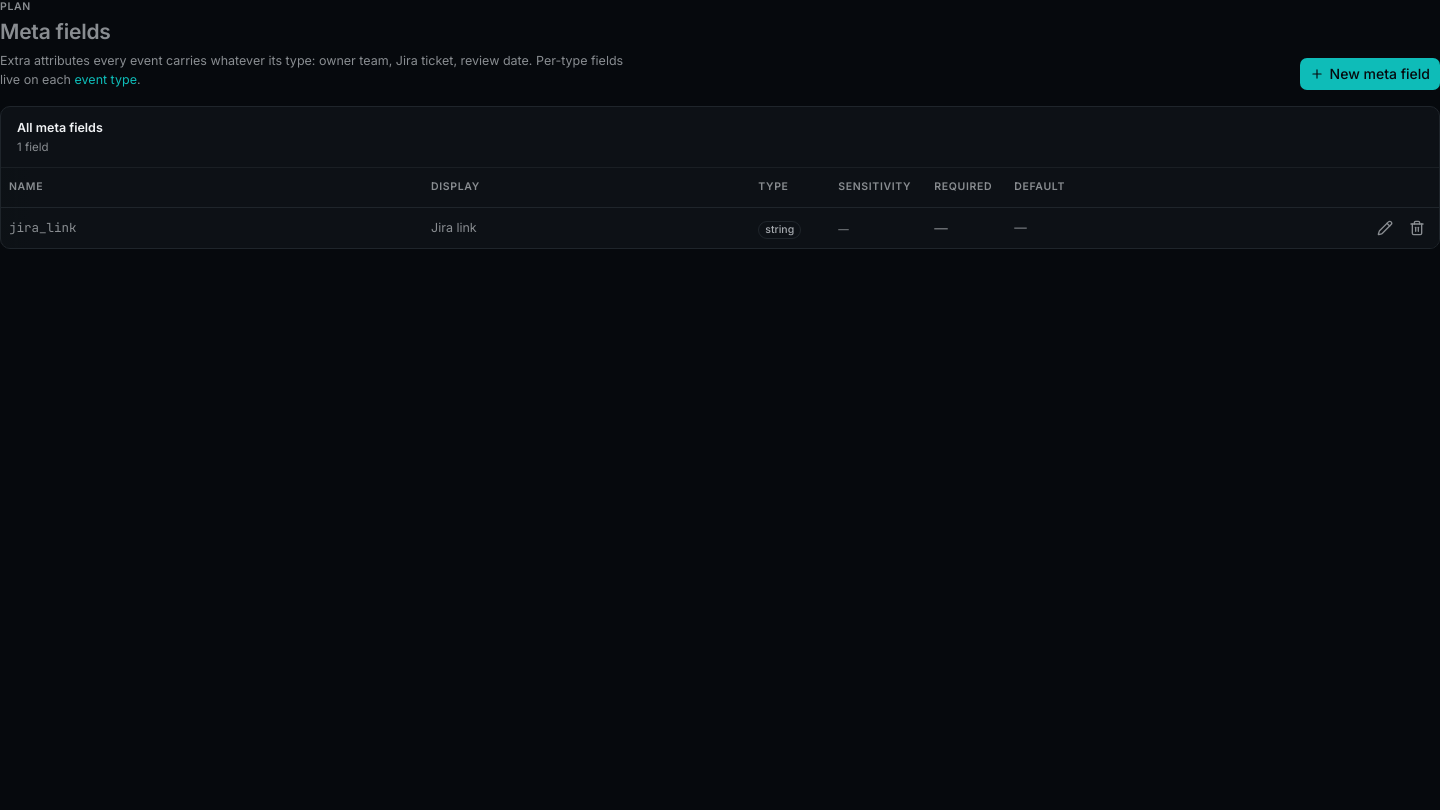
MetaFieldsTab — load and delete states (PLAN-41 / PLAN-54) › says a failed delete failed
Click the button named "Delete Jira link".
click(1417, 228)  # box [1403,214,1431,242]
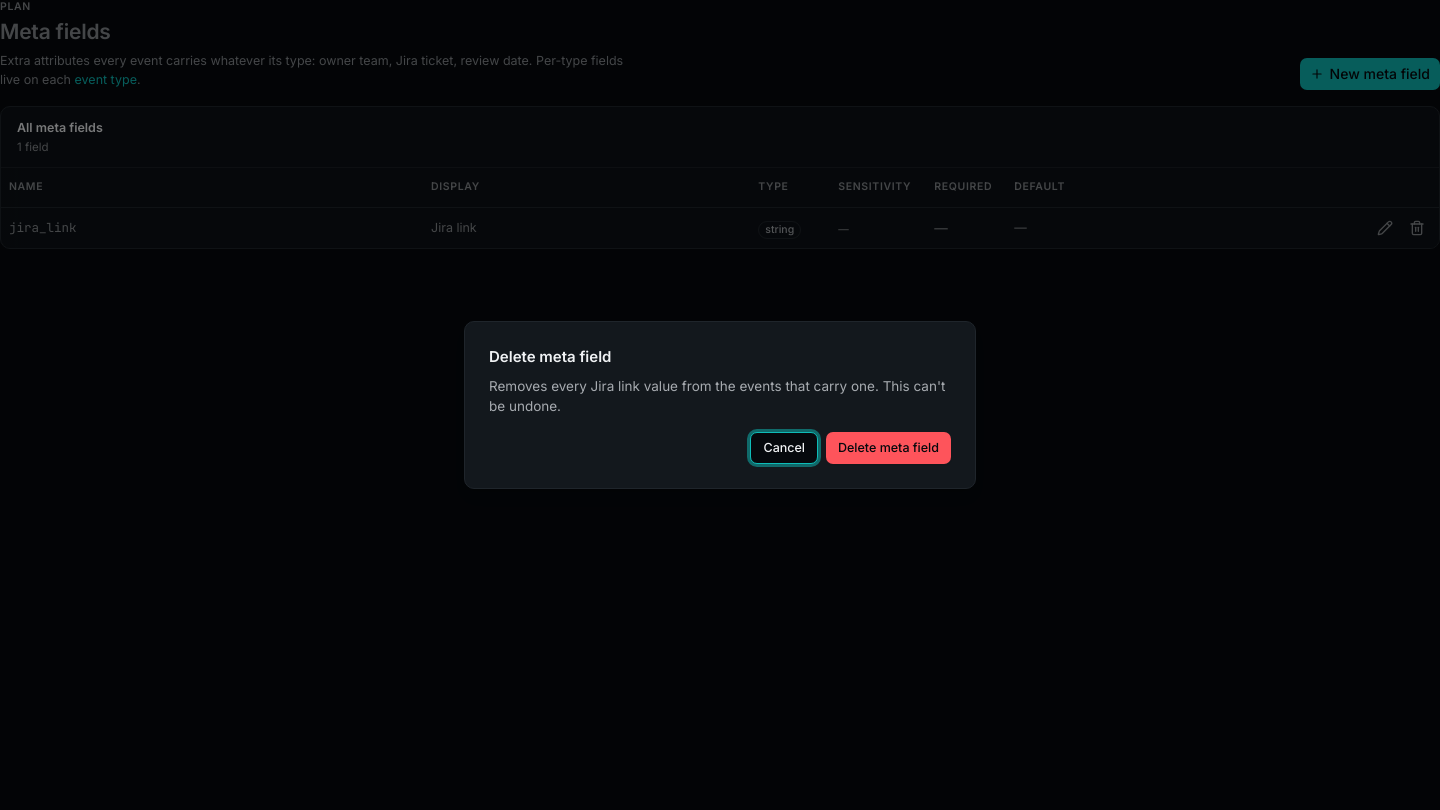
expect the text "Removes every Jira link value from the events that carry one" is shown: met, box [489,378,945,414]
Click the button "Delete meta field".
click(888, 448)  # box [826,432,951,464]
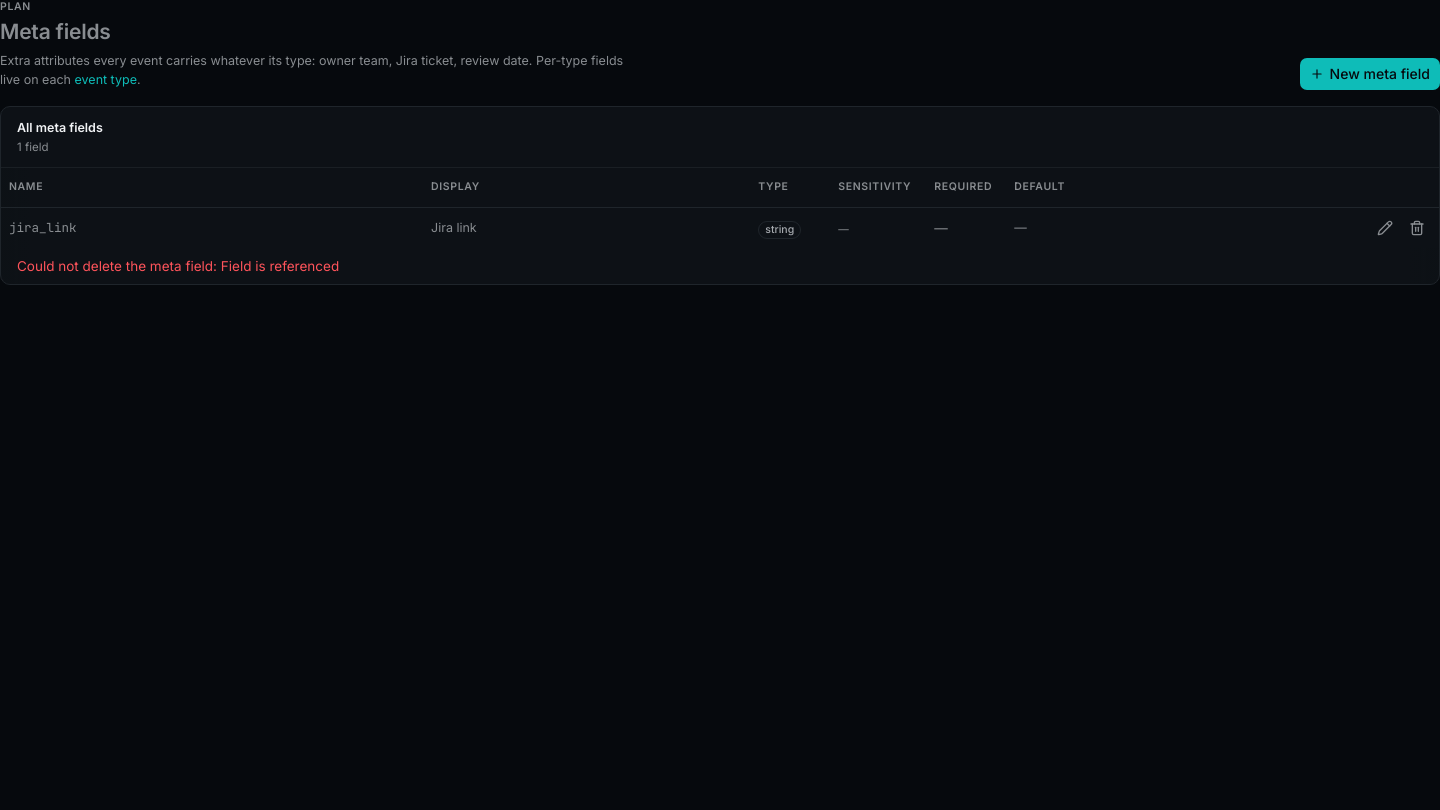
expect the message shows "Field is referenced": met, box [221,258,339,274]
